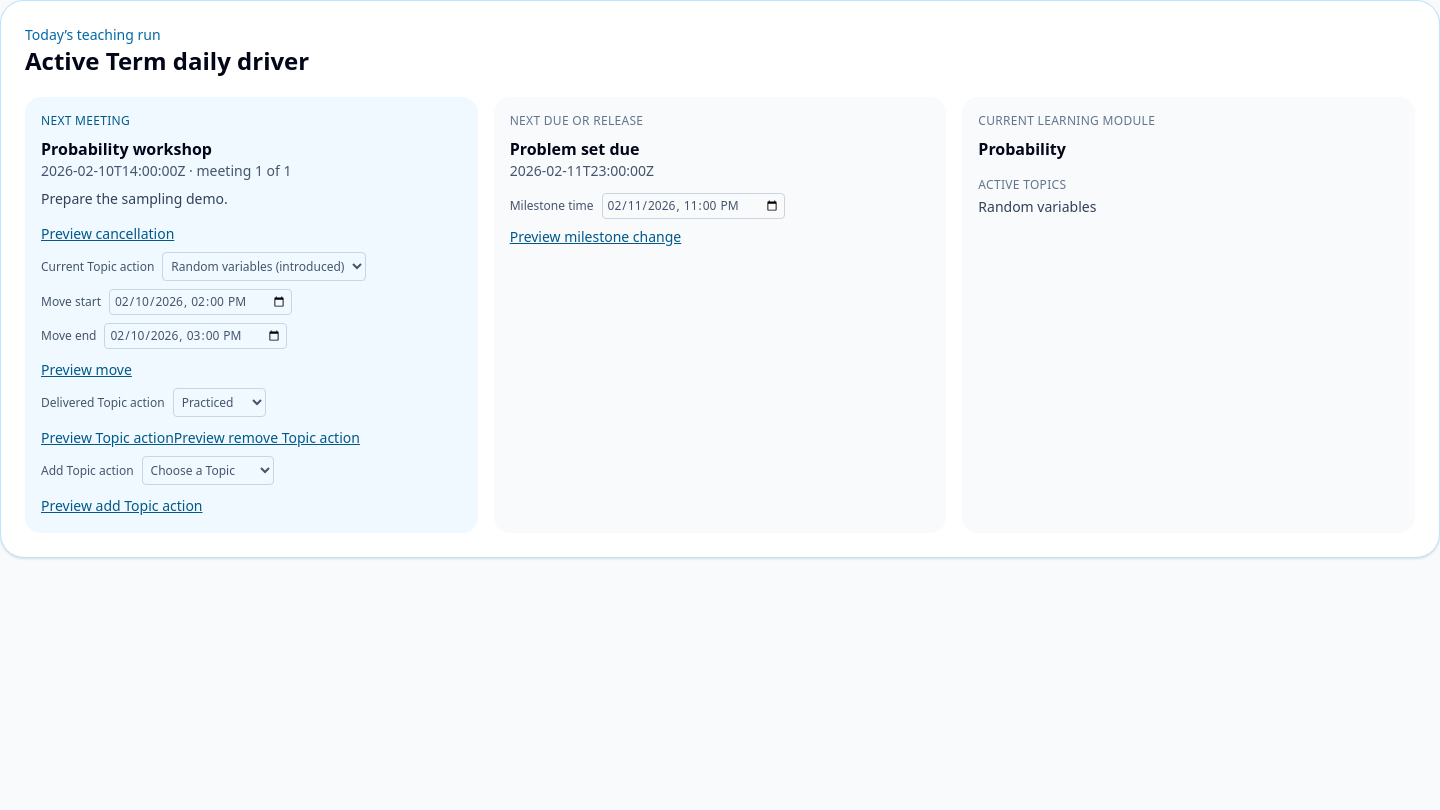
Scenario: ActiveTermDailyDriver › surfaces preview failures without opening a correction panel
Click the button "Preview cancellation".
click(108, 234)  # box [41,224,174,244]
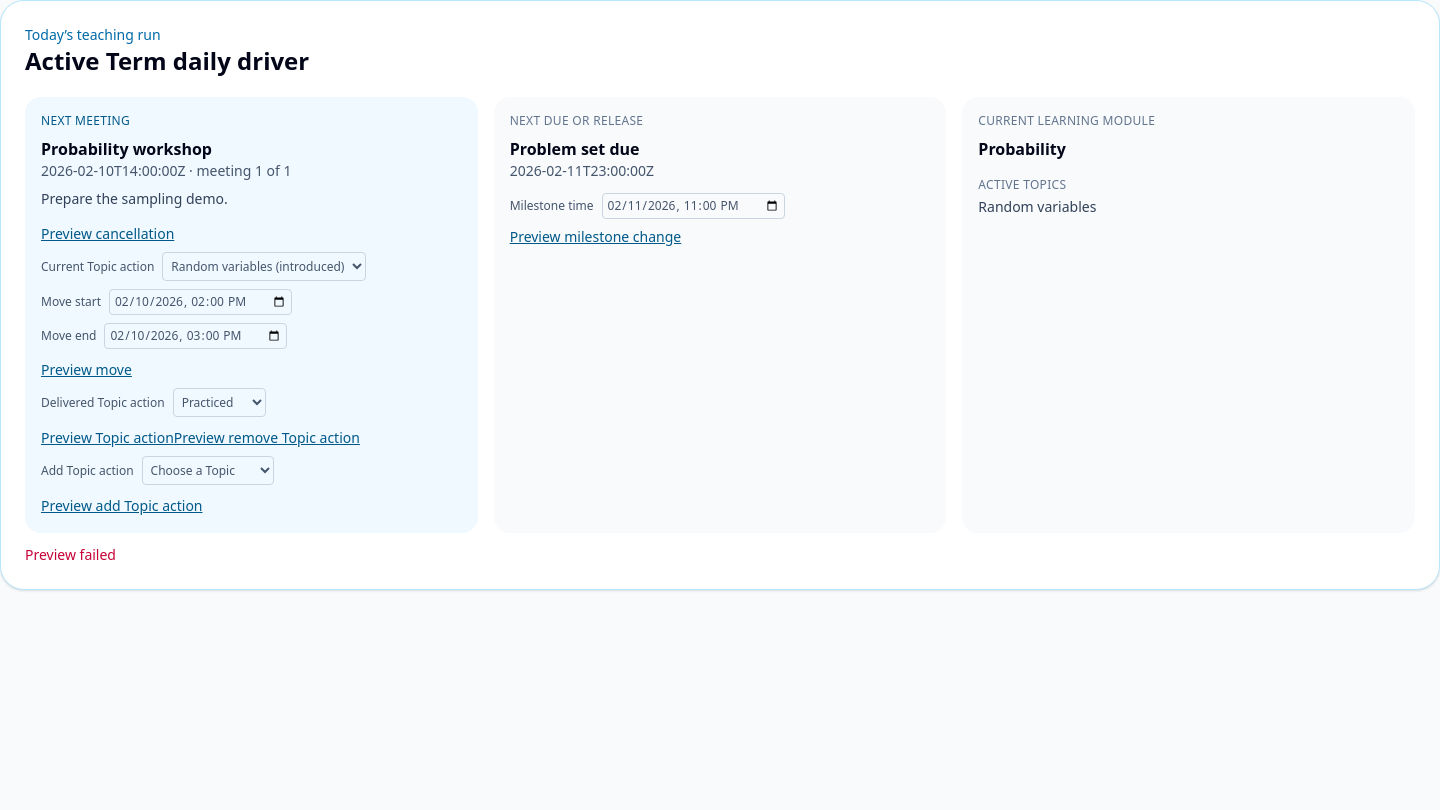
expect the text "Preview failed" is shown: met, box [25,545,116,564]
